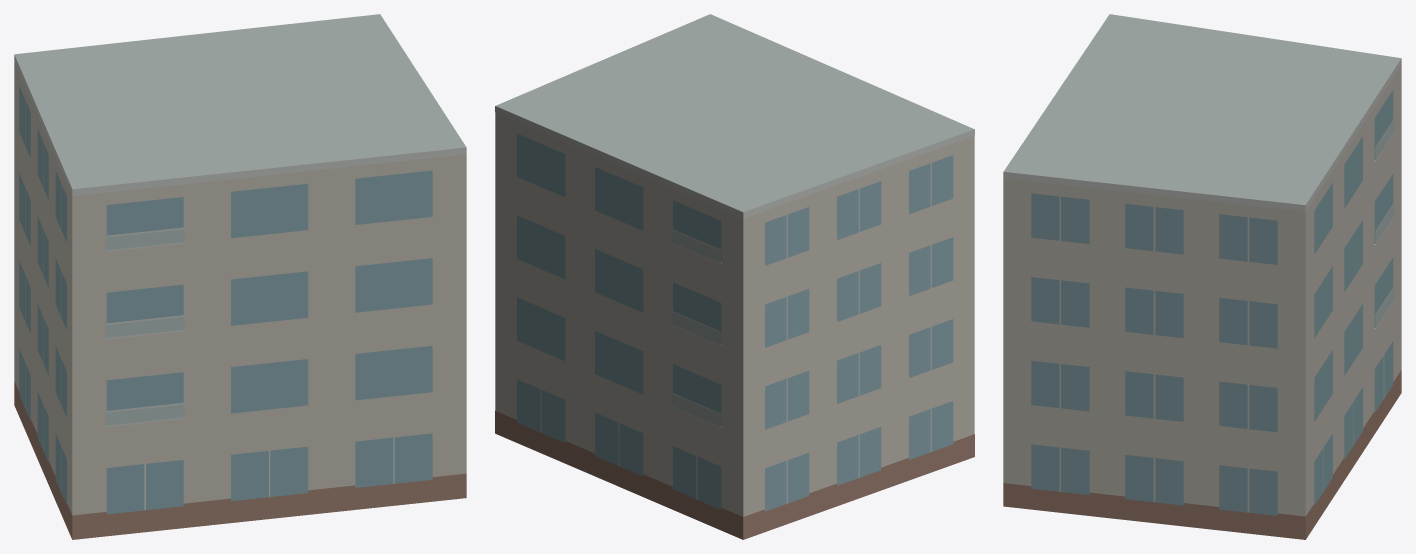
The model's file is survey-upis-32981733.glb.
The picture shows the model from 3 angles, left to right: view 1: azimuth 30°, elevation 25°; view 2: azimuth 150°, elevation 25°; view 3: azimuth 270°, elevation 25°; orthographic projection. The views are drawn at different scales.
Parts seen in each view (by area): view 1: survey-upis-32981733.tmp; view 2: survey-upis-32981733.tmp; view 3: survey-upis-32981733.tmp.
Boxes of the visible parts, box(x1,y1,x2,y2) form: survey-upis-32981733.tmp: box(14, 14, 466, 539); survey-upis-32981733.tmp: box(495, 14, 974, 539); survey-upis-32981733.tmp: box(1003, 14, 1401, 539).
Bounding box in the file's own units: 15.32 × 12.5 × 13.49.
